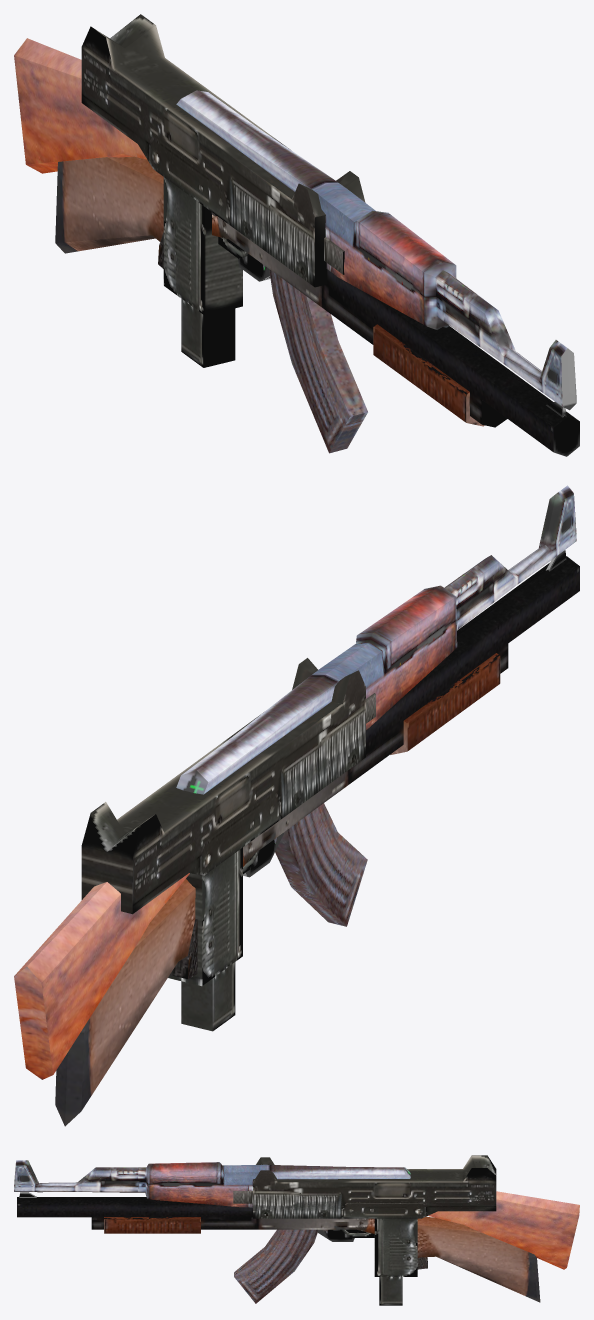
The model's file is guns.glb.
3 renders of one model, top to bottom at view 1: azimuth 30°, elevation 25°; view 2: azimuth 150°, elevation 25°; view 3: azimuth 270°, elevation 25°, orthographic. The views are drawn at different scales.
Parts seen in each view (by area): view 1: ak, uzi, shotgun; view 2: ak, uzi, shotgun; view 3: ak, uzi, shotgun.
Boxes of the visible parts, x1,y1,x2,y2 form: ak: [14, 38, 576, 453]; uzi: [81, 14, 365, 367]; shotgun: [55, 156, 579, 456]; ak: [14, 485, 576, 1079]; uzi: [81, 658, 375, 1031]; shotgun: [55, 550, 579, 1126]; ak: [14, 1160, 579, 1303]; uzi: [233, 1155, 496, 1305]; shotgun: [17, 1192, 540, 1302].
Bounding box in the file's own units: 0.1277 × 0.6519 × 2.34.
1 material, 1 textured.
